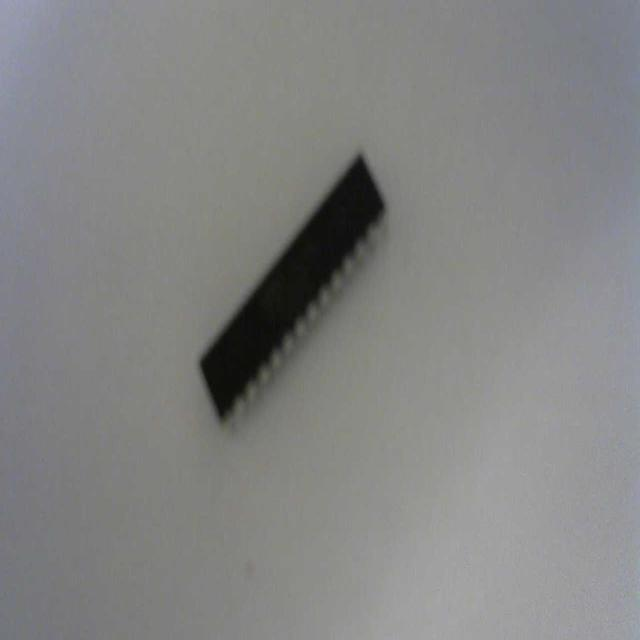atmega: (196, 146, 388, 426)
